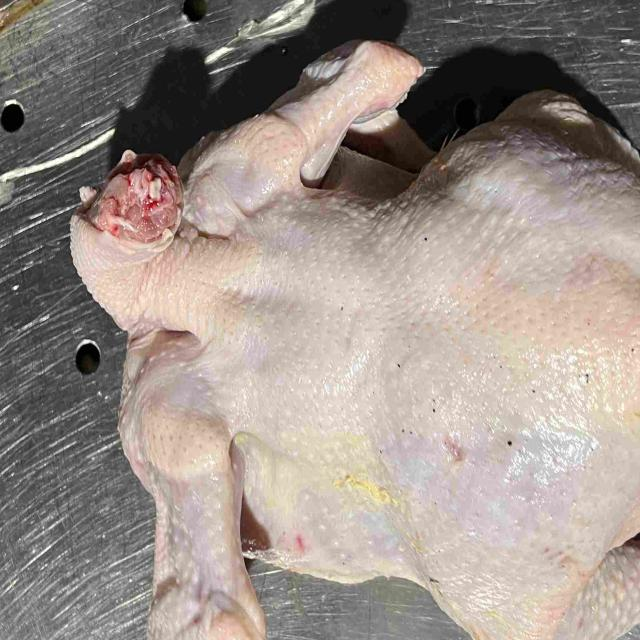back: (252, 179, 640, 507)
leg: (415, 529, 640, 640), (447, 91, 640, 213)
neck: (70, 150, 245, 335)
wing: (179, 37, 430, 223), (124, 335, 267, 640)
